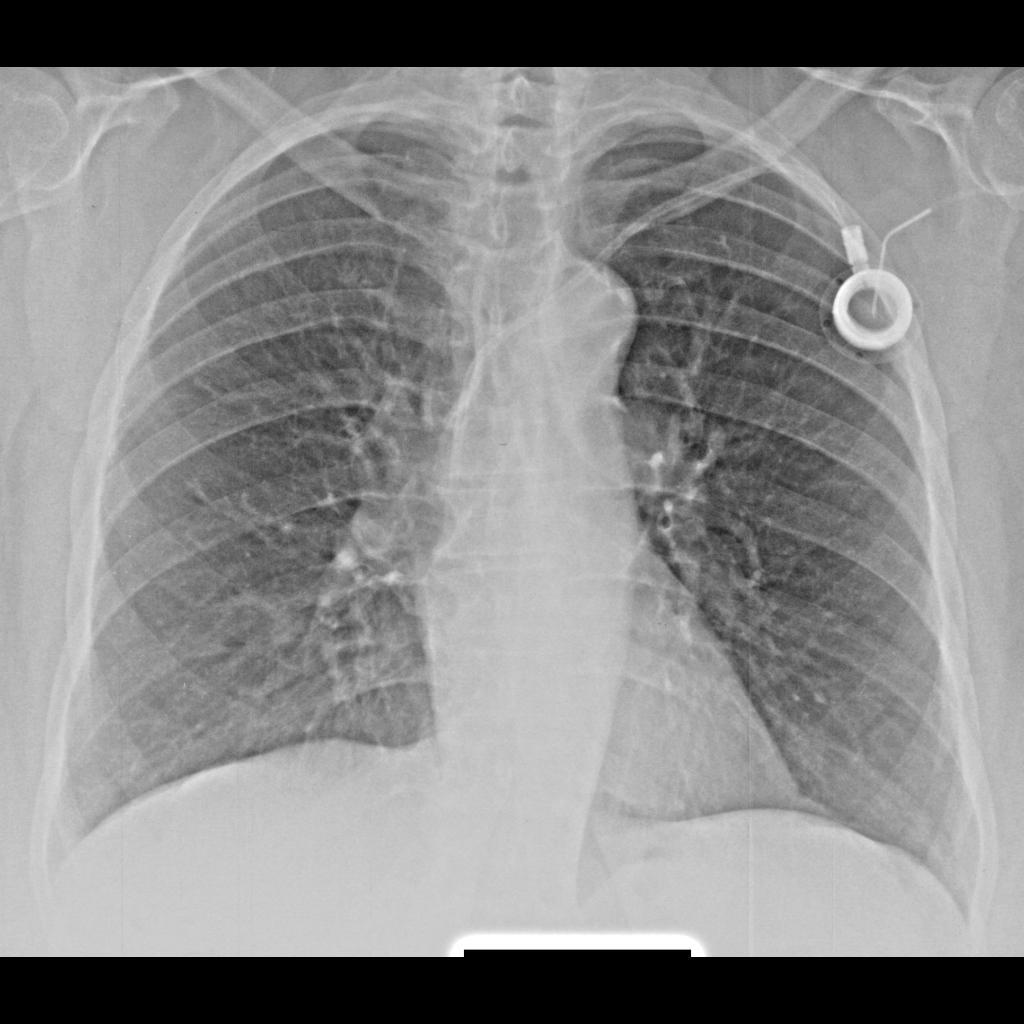Nodule: (244, 703, 279, 738)
